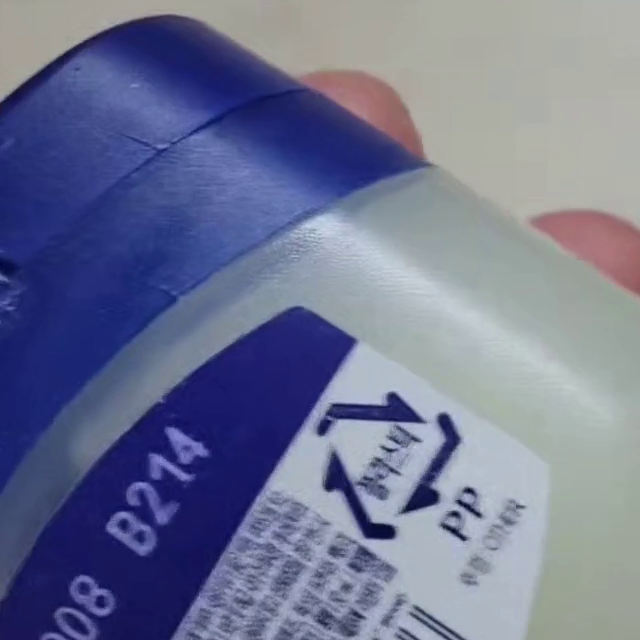Plastic: (316, 391, 463, 542)
